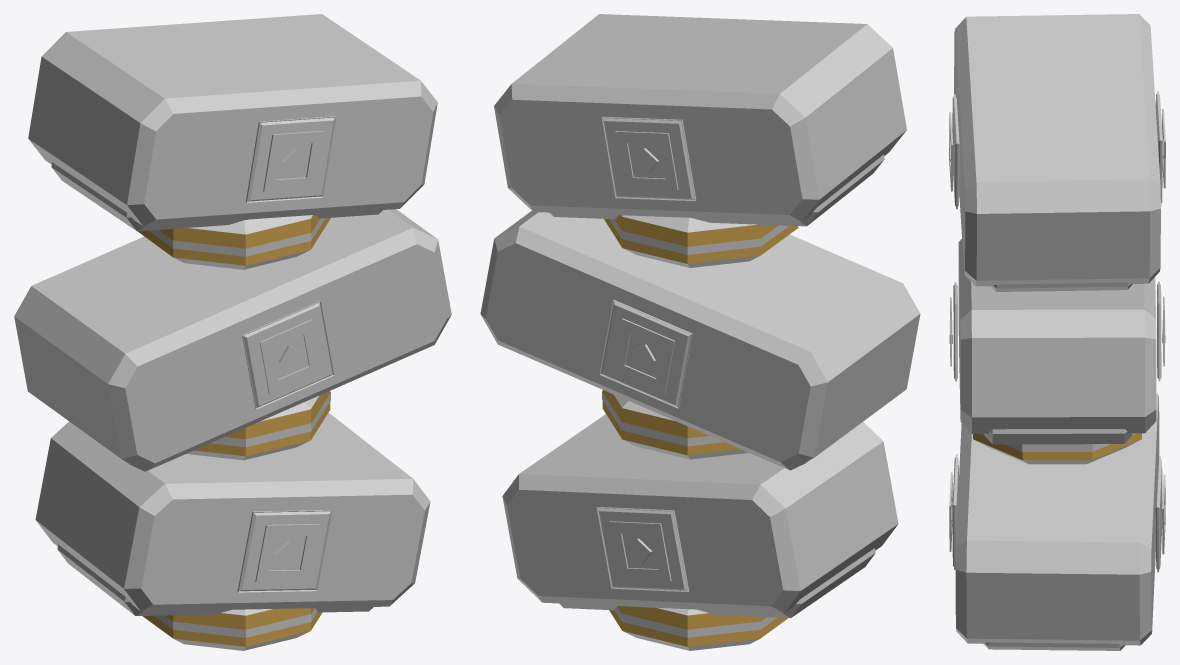
Rendered from wand_motion_29.obj.
3 views of the same model, side by side, from view 1: azimuth 30°, elevation 25°; view 2: azimuth 150°, elevation 25°; view 3: azimuth 270°, elevation 25° (orthographic). The views are drawn at different scales.
Parts seen in each view (by area): view 1: chamfered_seal_tablet_1, chamfered_seal_tablet_2, chamfered_seal_tablet_0, tablet_spacer_2, inset_rune_socket_1, inset_rune_socket_3, inset_rune_socket_5, tablet_spacer_0, tablet_spacer_1, seal_shadow_base_2, seal_shadow_base_0, tablet_spacer_dark_seam_2 (+2 smaller); view 2: chamfered_seal_tablet_2, chamfered_seal_tablet_1, chamfered_seal_tablet_0, tablet_spacer_2, inset_rune_socket_4, inset_rune_socket_2, inset_rune_socket_0, tablet_spacer_0, tablet_spacer_1, seal_shadow_base_0, seal_shadow_base_2, tablet_spacer_dark_seam_2 (+2 smaller); view 3: chamfered_seal_tablet_2, chamfered_seal_tablet_0, chamfered_seal_tablet_1, seal_shadow_base_1, tablet_spacer_1, seal_shadow_base_2, seal_shadow_base_0, tablet_spacer_dark_seam_1, inset_rune_socket_5, inset_rune_socket_0, inset_rune_socket_1, inset_rune_socket_4 (+2 smaller).
Boxes of the visible parts, x1,y1,x2,y2 form: chamfered_seal_tablet_1: [14, 209, 451, 470]; chamfered_seal_tablet_2: [28, 14, 437, 226]; chamfered_seal_tablet_0: [35, 412, 430, 611]; tablet_spacer_2: [138, 214, 330, 269]; inset_rune_socket_1: [237, 510, 332, 592]; inset_rune_socket_3: [242, 301, 334, 409]; inset_rune_socket_5: [246, 116, 336, 202]; tablet_spacer_0: [142, 608, 322, 650]; tablet_spacer_1: [186, 391, 330, 460]; seal_shadow_base_2: [51, 162, 382, 231]; seal_shadow_base_0: [57, 544, 373, 615]; tablet_spacer_dark_seam_2: [149, 218, 325, 256]; chamfered_seal_tablet_2: [494, 14, 906, 221]; chamfered_seal_tablet_1: [480, 211, 920, 469]; chamfered_seal_tablet_0: [502, 414, 898, 613]; tablet_spacer_2: [604, 215, 798, 267]; inset_rune_socket_4: [601, 116, 696, 201]; inset_rune_socket_2: [599, 300, 692, 408]; inset_rune_socket_0: [596, 507, 689, 591]; tablet_spacer_0: [609, 606, 787, 650]; tablet_spacer_1: [602, 390, 748, 459]; seal_shadow_base_0: [559, 548, 875, 617]; seal_shadow_base_2: [549, 154, 884, 226]; tablet_spacer_dark_seam_2: [609, 219, 788, 254]; chamfered_seal_tablet_2: [954, 14, 1160, 286]; chamfered_seal_tablet_0: [955, 393, 1159, 645]; chamfered_seal_tablet_1: [958, 239, 1156, 433]; seal_shadow_base_1: [984, 429, 1132, 444]; tablet_spacer_1: [973, 433, 1141, 464]; seal_shadow_base_2: [991, 282, 1132, 291]; seal_shadow_base_0: [983, 642, 1125, 650]; tablet_spacer_dark_seam_1: [980, 433, 1135, 451]; inset_rune_socket_5: [952, 94, 959, 209]; inset_rune_socket_0: [1155, 456, 1162, 572]; inset_rune_socket_1: [952, 454, 958, 569]; inset_rune_socket_4: [1155, 91, 1162, 205].
Size of the model in its own units: 0.1958 by 0.3156 by 0.1143.
